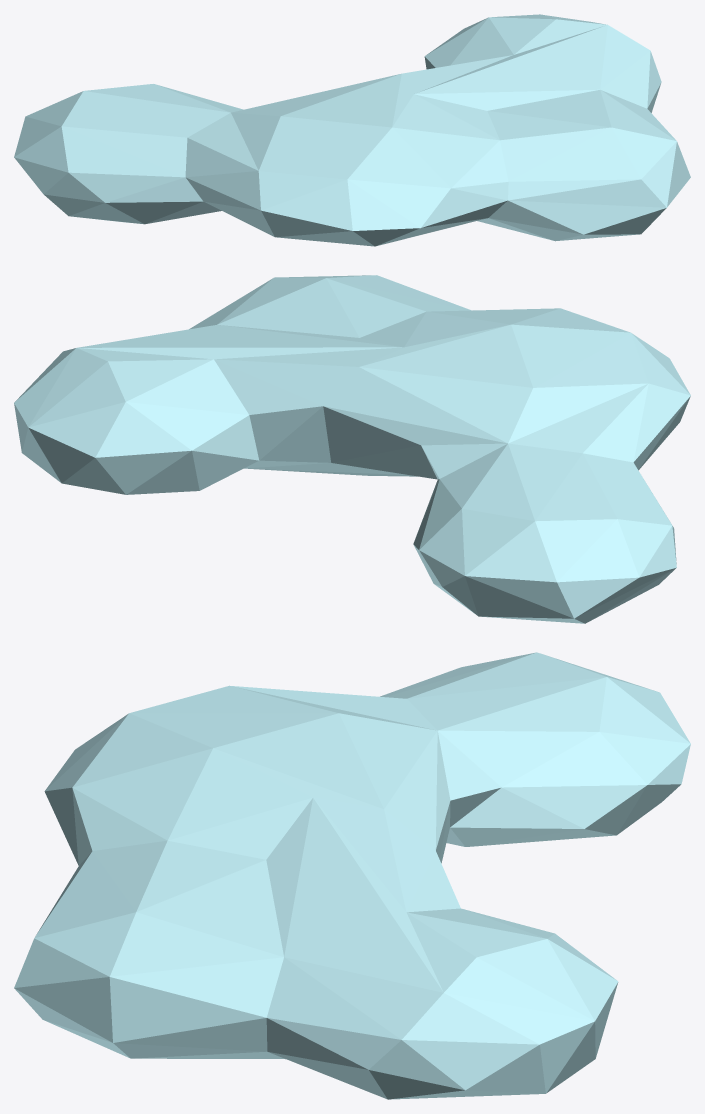
The model's file is Cloud_1.glb.
3 renders of one model, top to bottom at view 1: azimuth 30°, elevation 25°; view 2: azimuth 150°, elevation 25°; view 3: azimuth 270°, elevation 25°, orthographic. The views are drawn at different scales.
Parts seen in each view (by area): view 1: Cloud_01; view 2: Cloud_01; view 3: Cloud_01.
Part boxes in pixels (x1,y1,x2,y2): Cloud_01: [14, 14, 690, 246]; Cloud_01: [14, 275, 690, 623]; Cloud_01: [14, 652, 690, 1099].
Size of the model in its own units: 7.67 by 1.61 by 5.63.
